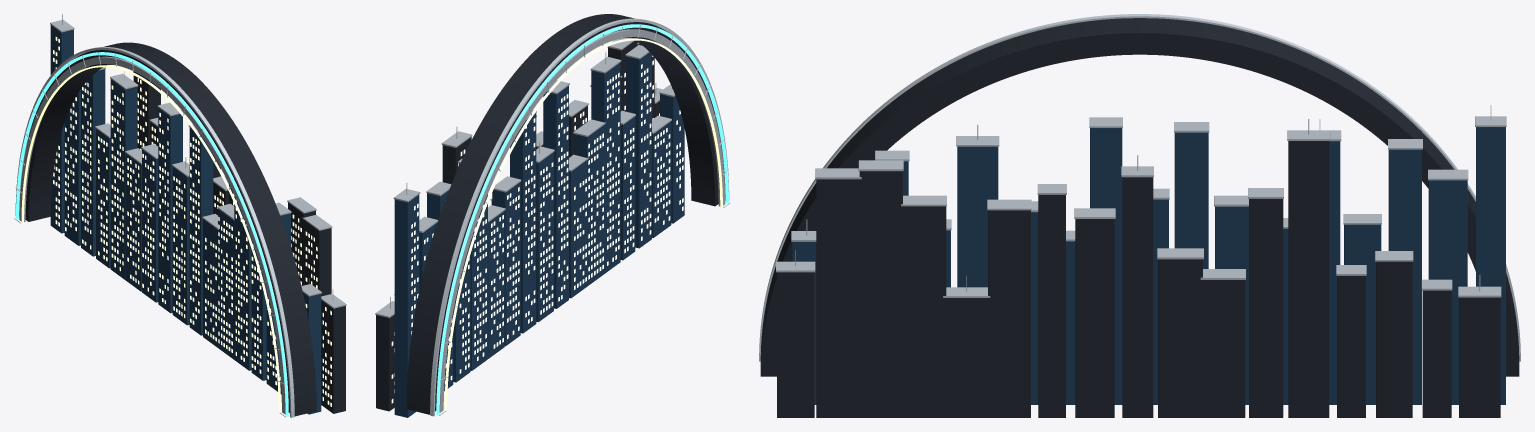
Rendered from SM_ArchSkyline.fbx.
3 views of the same model, side by side, from view 1: azimuth 30°, elevation 25°; view 2: azimuth 150°, elevation 25°; view 3: azimuth 270°, elevation 25° (orthographic). The views are drawn at different scales.
Parts seen in each view (by area): view 1: SM_ArchSkyline; view 2: SM_ArchSkyline; view 3: SM_ArchSkyline.
Boxes of the visible parts, x1,y1,x2,y2 form: SM_ArchSkyline: (14,14,346,417); SM_ArchSkyline: (375,14,730,417); SM_ArchSkyline: (759,14,1520,417).
Size of the model in its own units: 187 by 1372 by 721.
